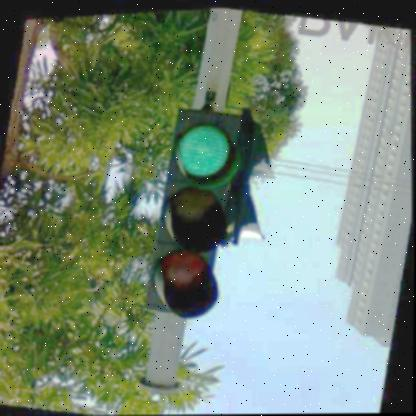Traffic Light -Green-: (141, 99, 253, 324)
